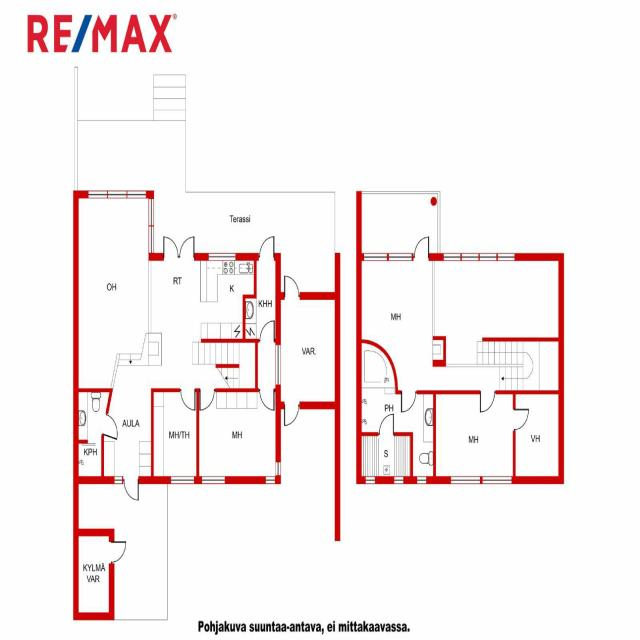door: (101, 414, 121, 439), (284, 271, 299, 299), (179, 232, 194, 260), (164, 232, 179, 260), (414, 232, 429, 260), (284, 402, 299, 429), (124, 476, 138, 504), (260, 232, 274, 260), (480, 390, 495, 415), (379, 411, 394, 436), (109, 542, 128, 561), (259, 388, 274, 412), (512, 409, 530, 429), (181, 388, 195, 412), (200, 388, 214, 412), (402, 390, 416, 414), (260, 319, 274, 342)
